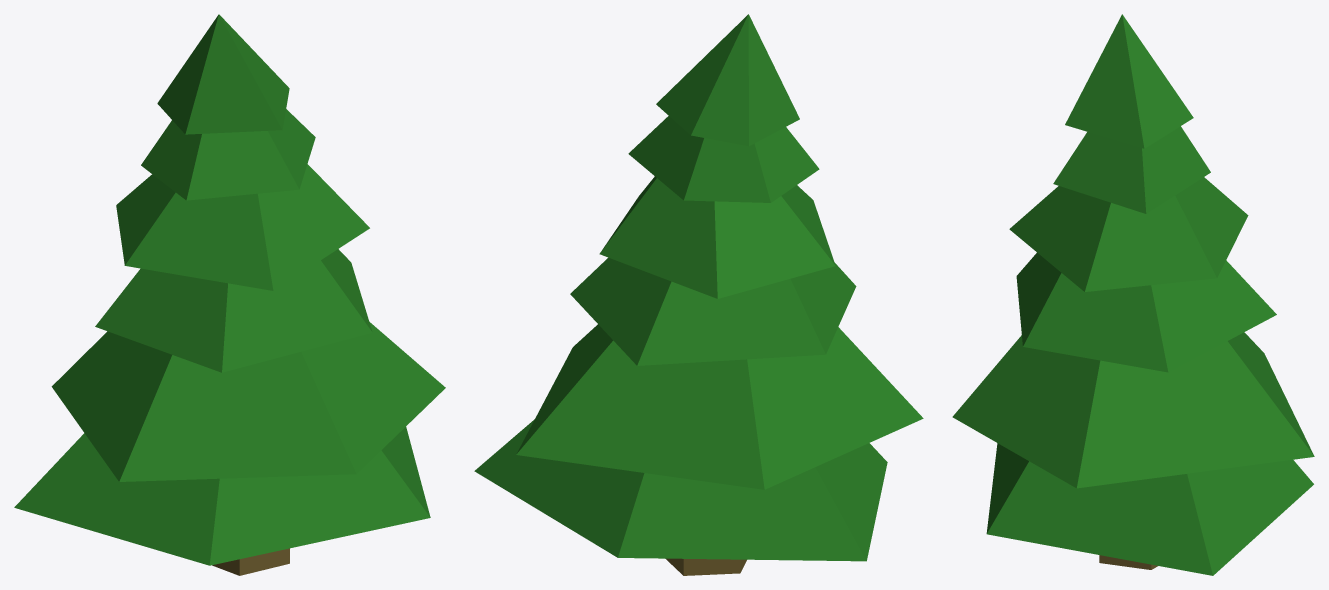
Rendered from PineTree.fbx.
3 views of the same model, side by side, from view 1: azimuth 30°, elevation 25°; view 2: azimuth 150°, elevation 25°; view 3: azimuth 270°, elevation 25° (orthographic). The views are drawn at different scales.
Visible parts, largest first — view 1: Cone.001, Cone, Cone.002, Cone.003, Cone.004, Cone.005, Cylinder; view 2: Cone.001, Cone, Cone.002, Cone.003, Cone.005, Cone.004, Cylinder; view 3: Cone.001, Cone, Cone.002, Cone.003, Cone.005, Cone.004.
Part boxes in pixels (x1,y1,x2,y2): Cone.001: (51,322,445,481); Cone: (14,427,430,565); Cone.002: (95,249,372,372); Cone.003: (116,164,369,290); Cone.004: (141,109,315,200); Cone.005: (157,14,289,134); Cylinder: (212,548,289,575); Cone.001: (516,324,923,489); Cone: (474,419,887,561); Cone.002: (570,257,856,365); Cone.003: (599,176,835,298); Cone.005: (656,14,799,146); Cone.004: (628,116,819,202); Cylinder: (665,558,746,575); Cone.001: (952,332,1314,488); Cone: (986,443,1313,575); Cone.002: (1016,252,1276,372); Cone.003: (1009,177,1248,291); Cone.005: (1065,14,1193,148); Cone.004: (1053,126,1210,213).
Size of the model in its own units: 215 by 290 by 183.
